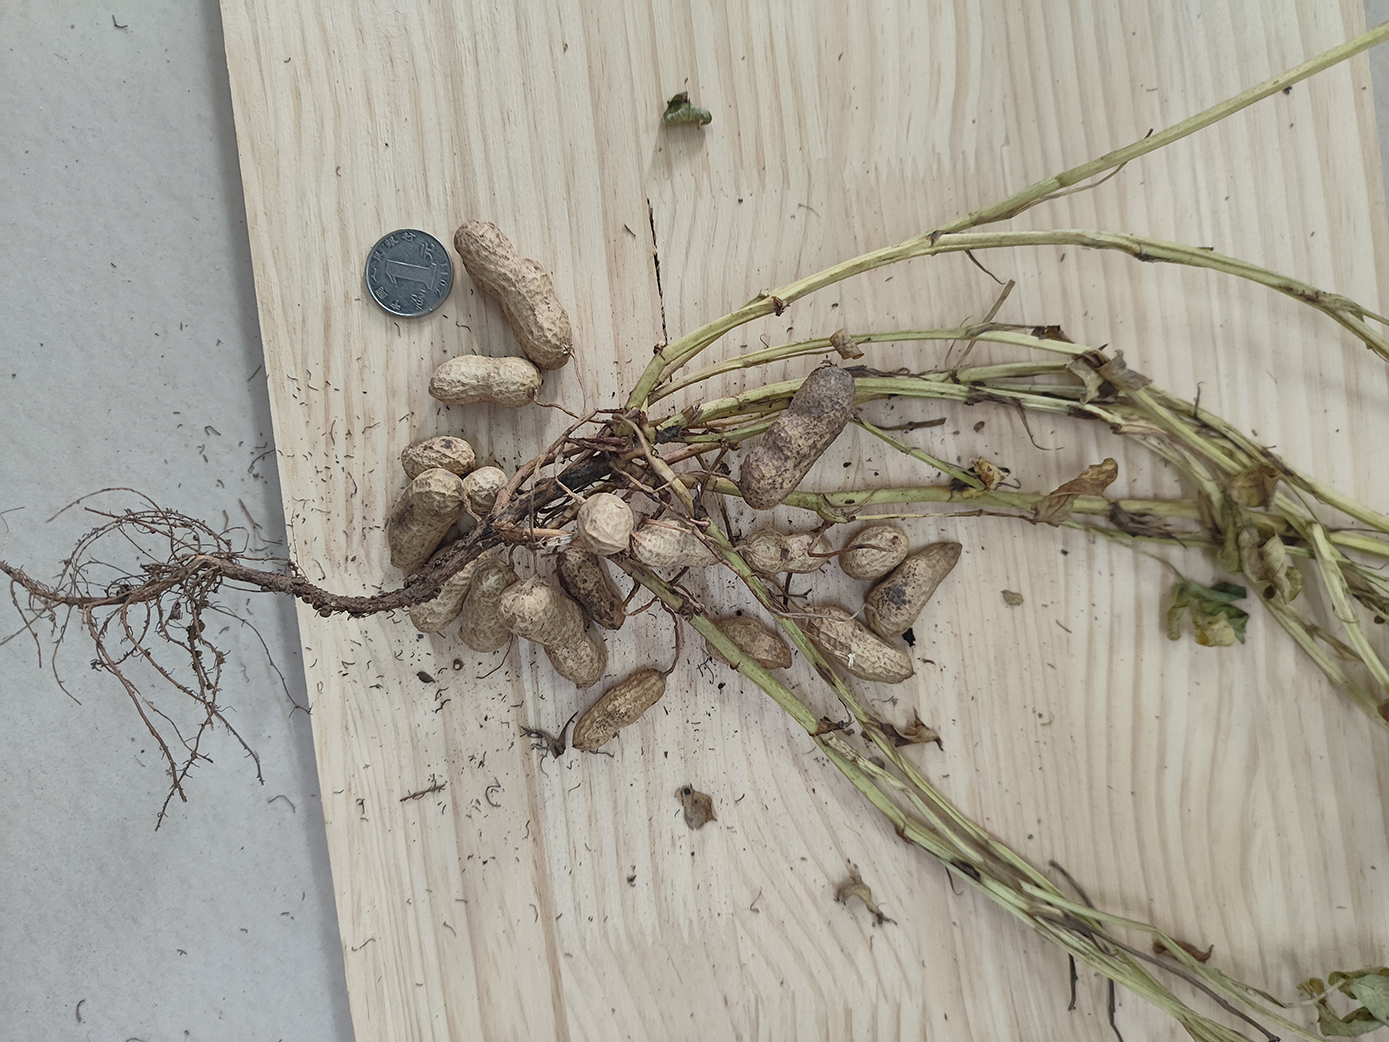h: (455, 220, 572, 370), (498, 578, 604, 690), (864, 543, 960, 638), (801, 607, 915, 682), (570, 669, 665, 750), (408, 546, 495, 633), (389, 468, 462, 569), (429, 355, 544, 409), (555, 547, 626, 630), (704, 615, 794, 674), (462, 568, 516, 652), (633, 524, 724, 572), (742, 529, 831, 575), (840, 525, 908, 580), (575, 493, 632, 557), (402, 435, 476, 481), (463, 466, 508, 517)
l: (739, 364, 856, 511)
